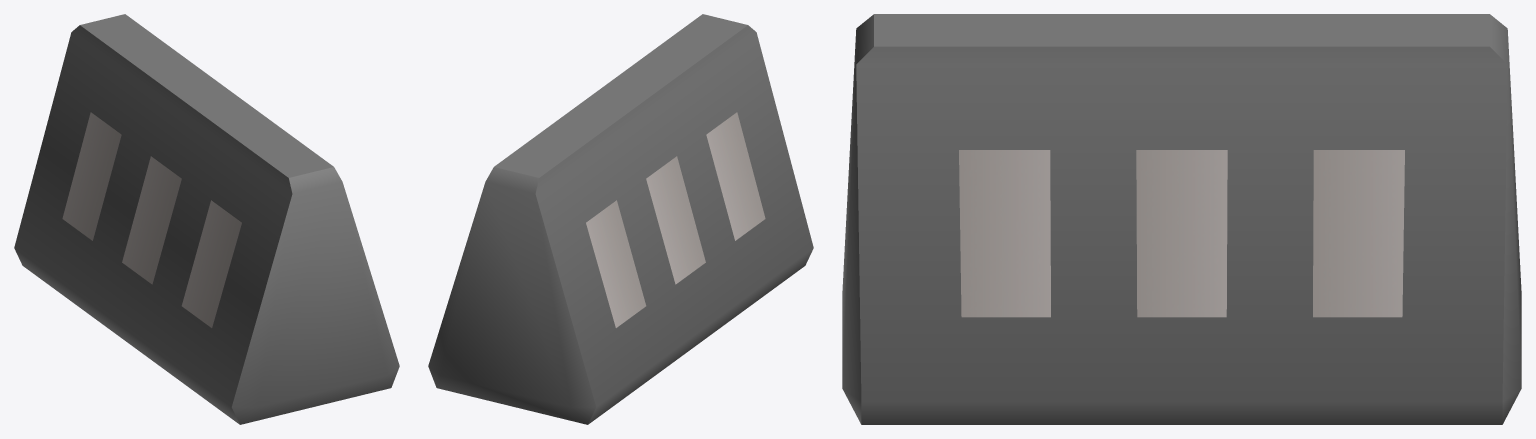
The model's file is Concrete_Barrier.fbx.
3 views of the same model, side by side, from view 1: azimuth 30°, elevation 25°; view 2: azimuth 150°, elevation 25°; view 3: azimuth 270°, elevation 25° (orthographic). The views are drawn at different scales.
Parts seen in each view (by area): view 1: Concrete_Barrier_2A; view 2: Concrete_Barrier_2A; view 3: Concrete_Barrier_2A.
Boxes of the visible parts, <box> form: Concrete_Barrier_2A: <box>14,14,399,424</box>; Concrete_Barrier_2A: <box>428,14,813,424</box>; Concrete_Barrier_2A: <box>842,14,1521,424</box>.
Size of the model in its own units: 1902 by 2496 by 4517.
